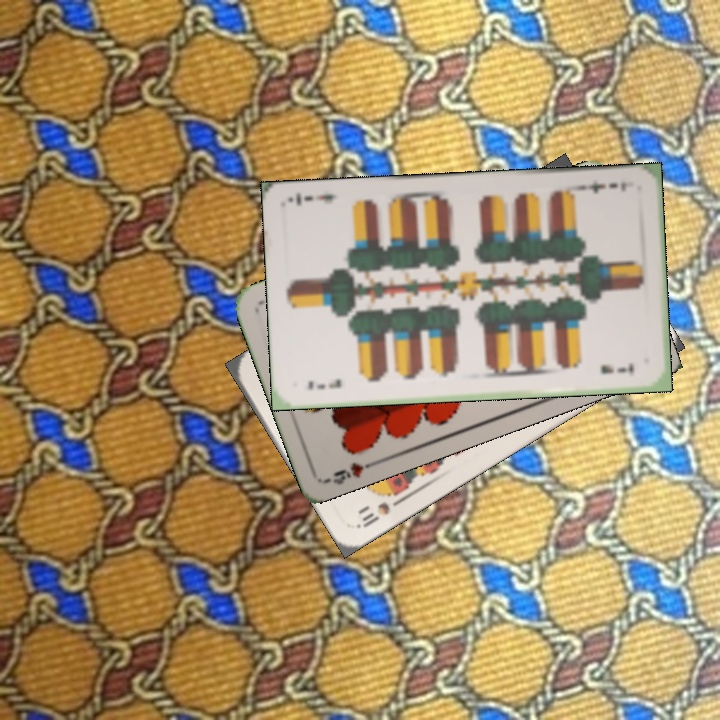E7: (576, 176, 630, 196), (303, 375, 344, 392)
H9: (323, 456, 381, 487)
S10: (353, 493, 407, 531)
